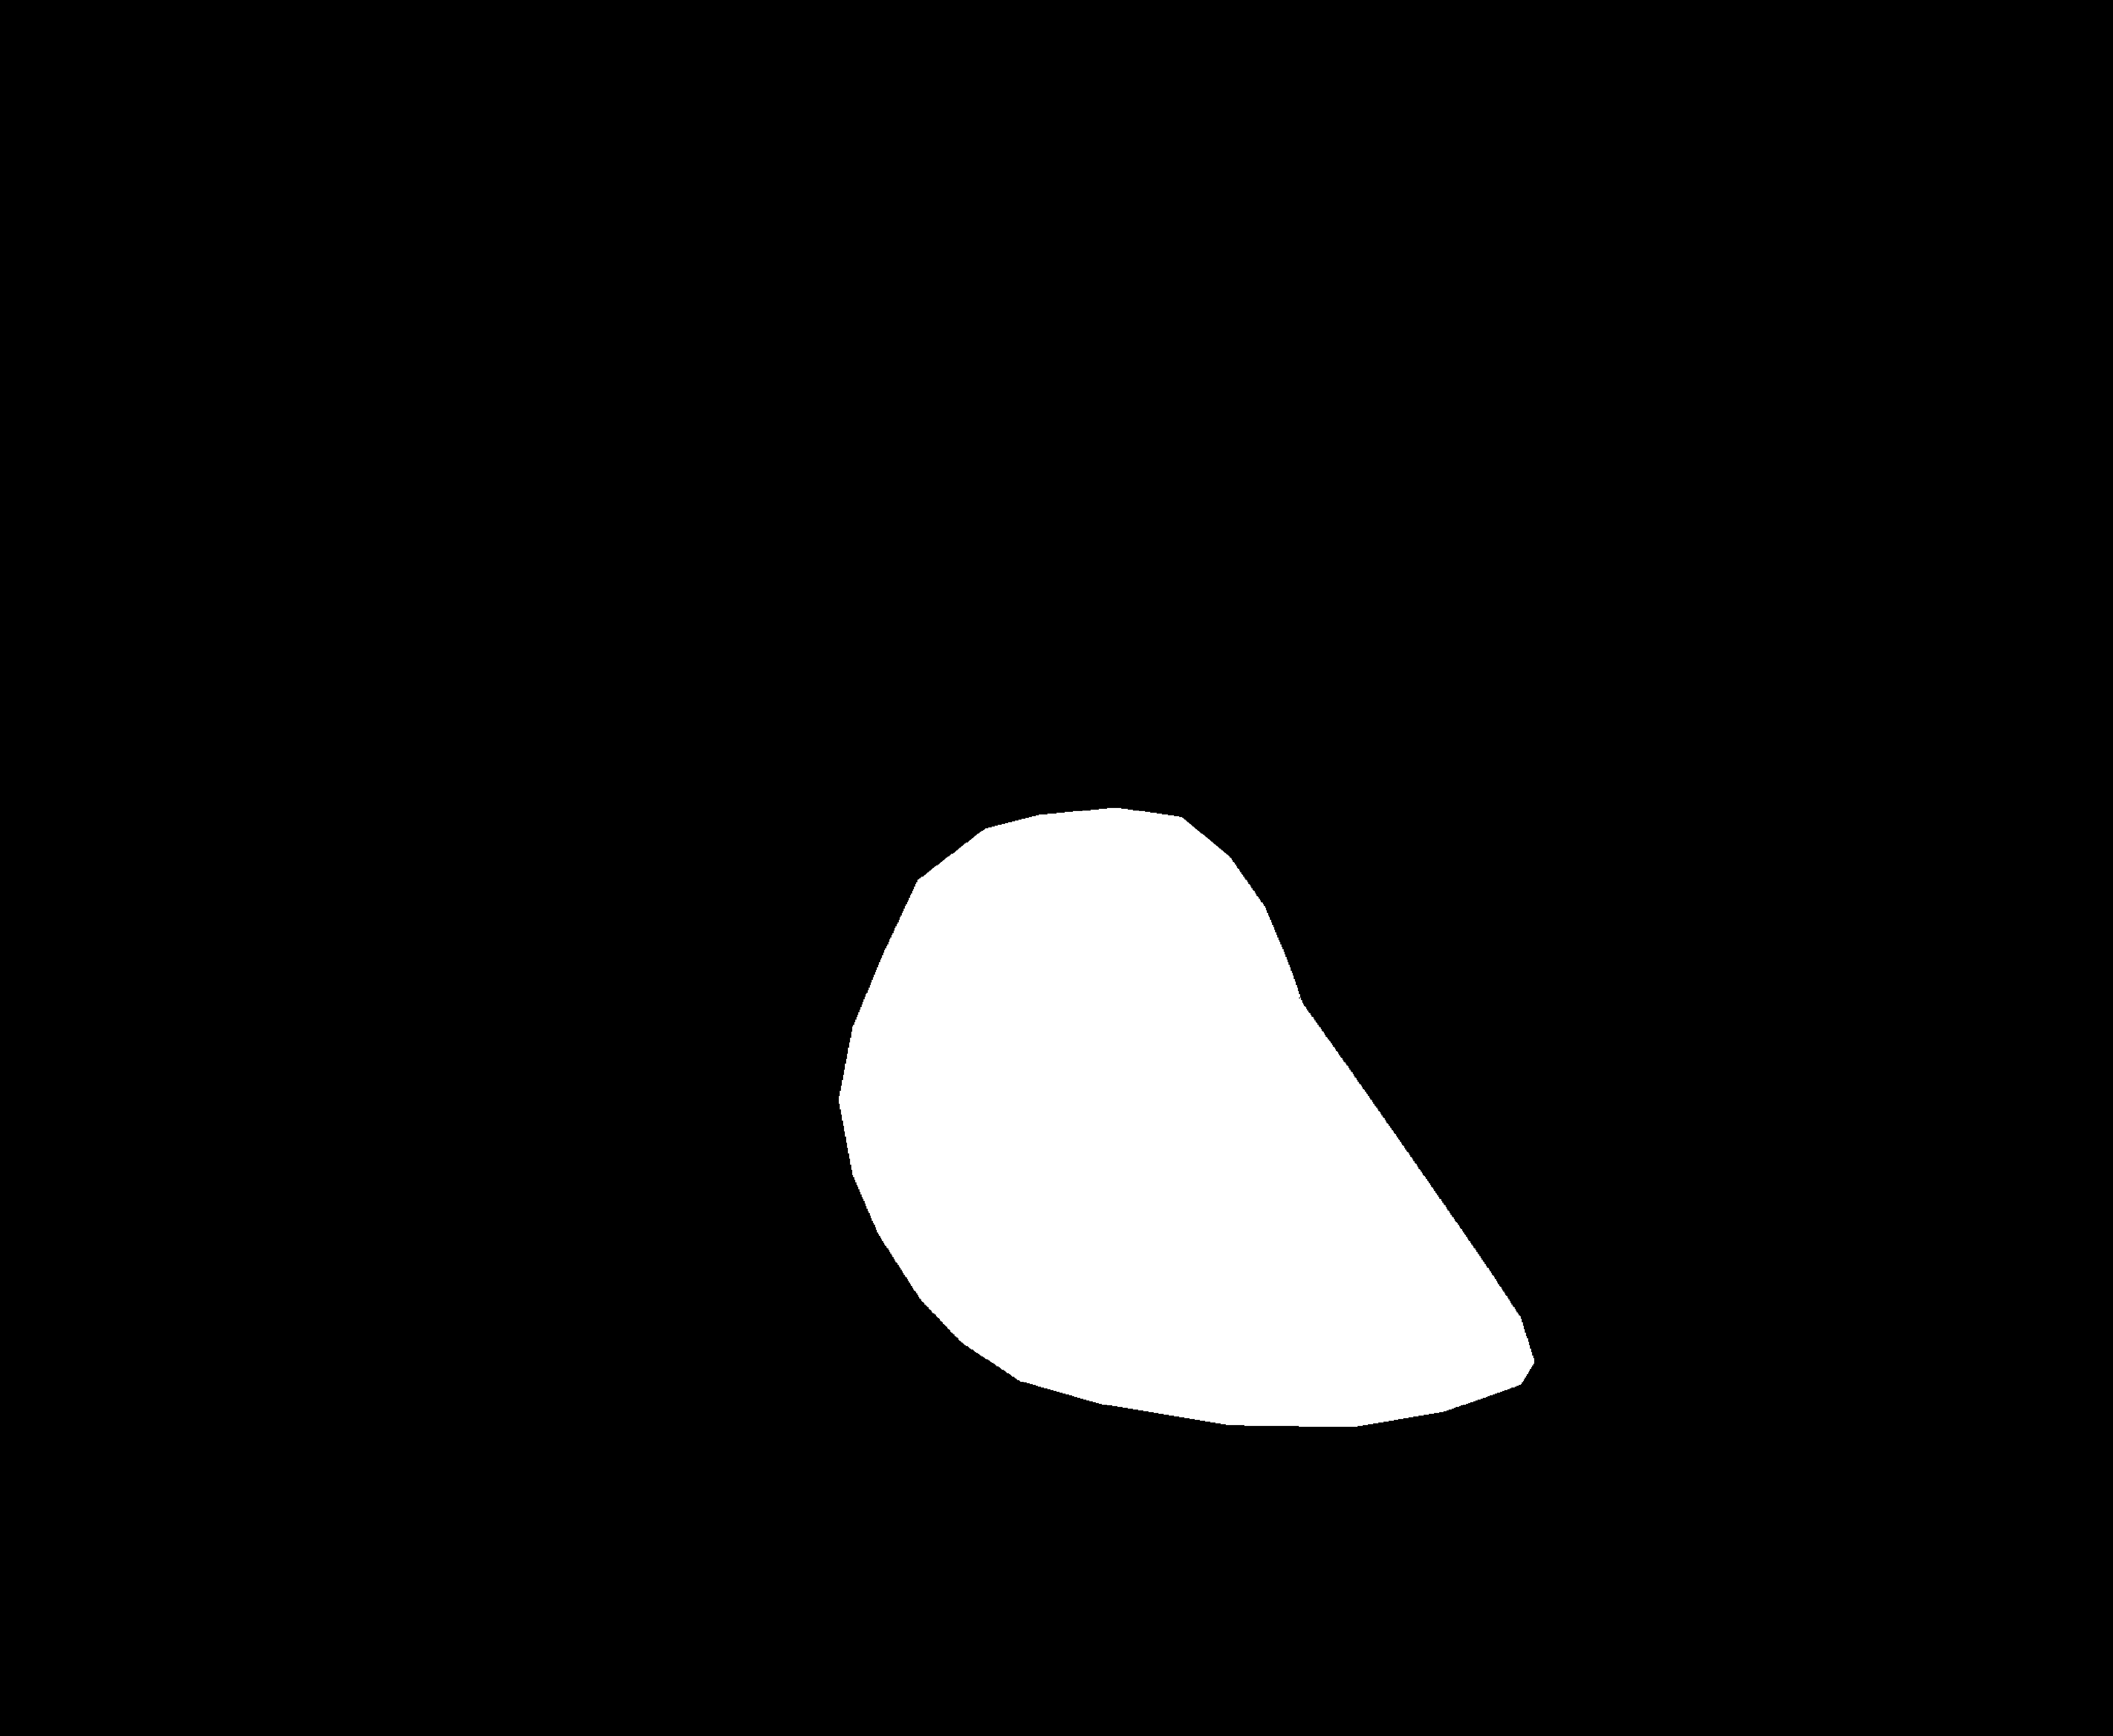heart: (842, 995, 1553, 1460)
left_lung: (356, 209, 995, 1518)
right_lung: (1141, 197, 1797, 1585)
